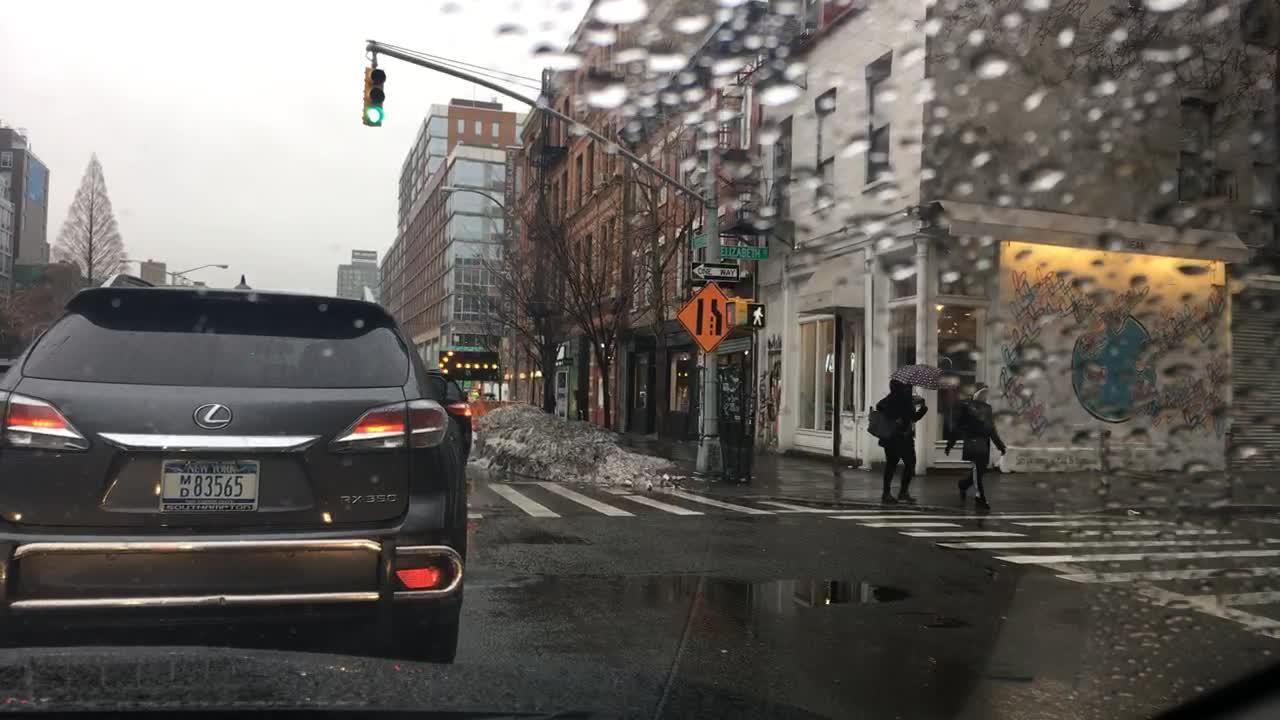lexus: (179, 397, 243, 437)
